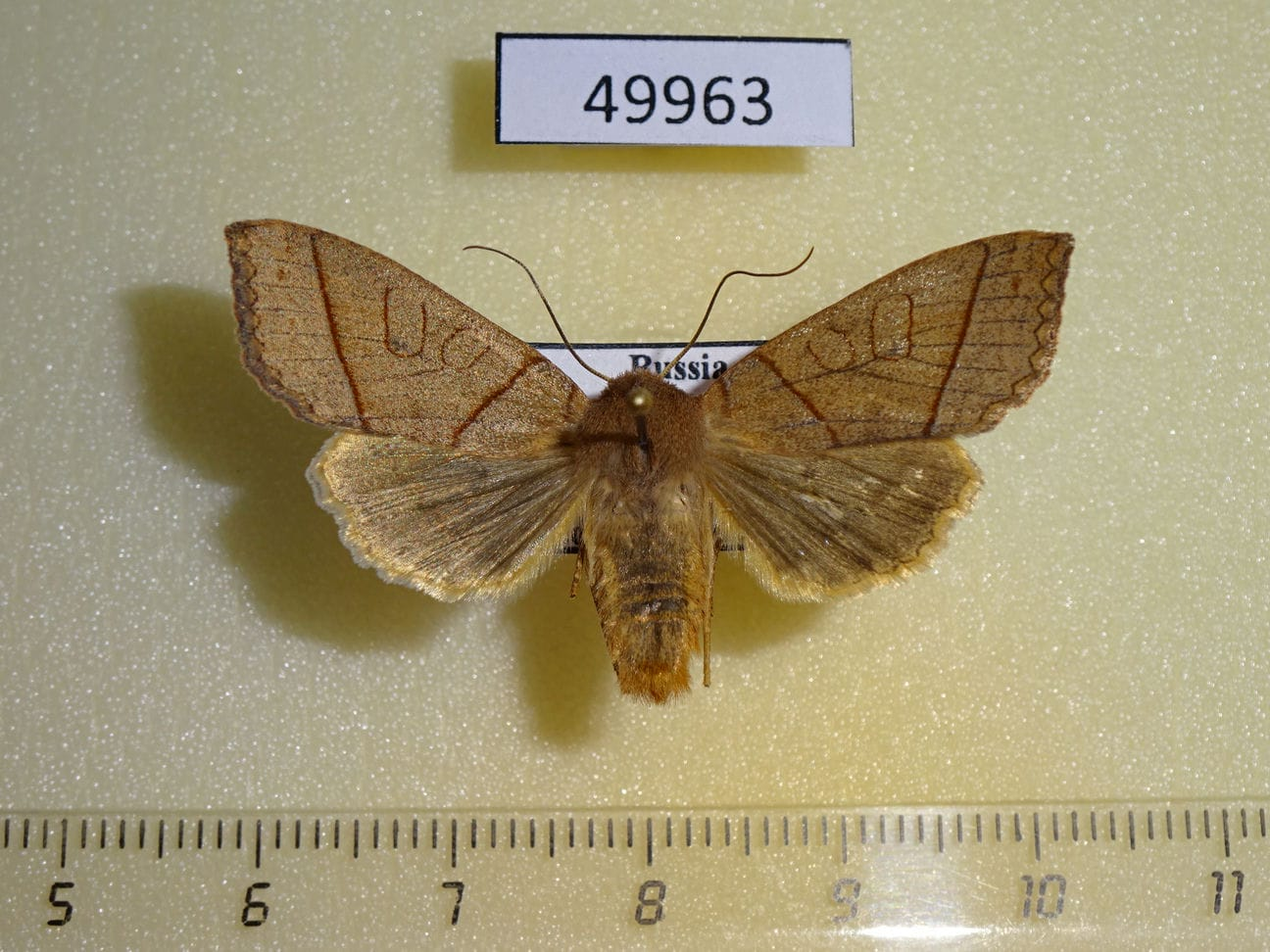Noctuidae: (220, 216, 1090, 705)
